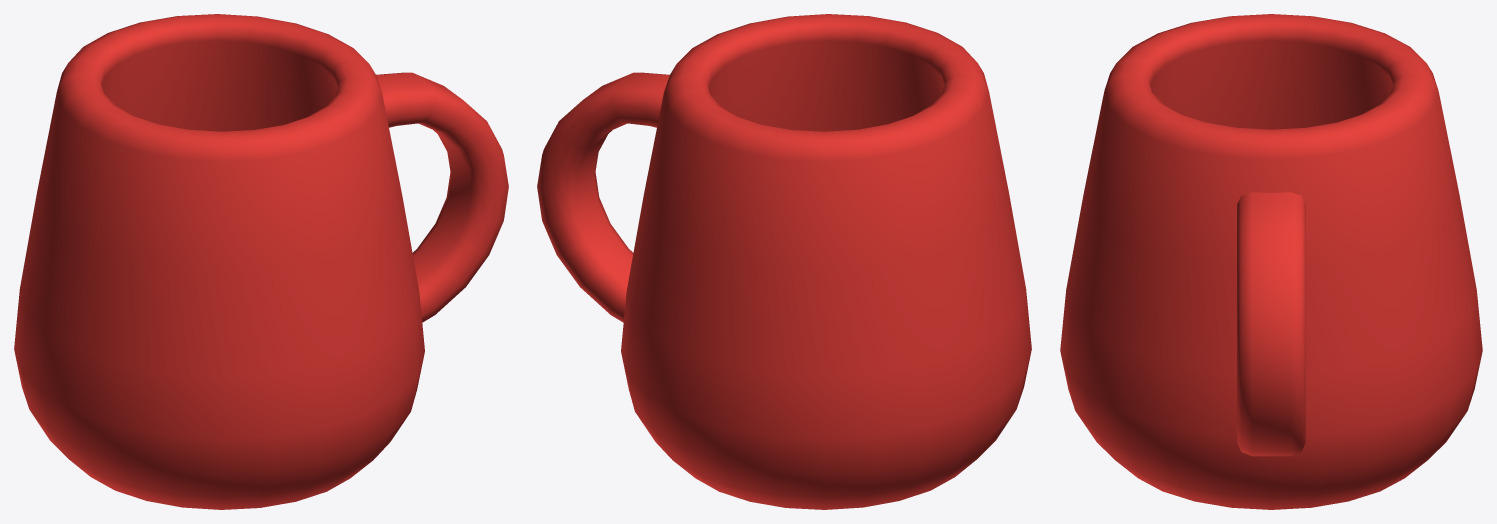
File: Mug3_Red.fbx
3 renders of one model, left to right at view 1: azimuth 30°, elevation 25°; view 2: azimuth 150°, elevation 25°; view 3: azimuth 270°, elevation 25°, orthographic.
Visible parts, largest first — view 1: Mug3_Red; view 2: Mug3_Red; view 3: Mug3_Red.
Boxes of the visible parts, left/top/right/bottom form: Mug3_Red: left=14, top=14, right=508, bottom=509; Mug3_Red: left=537, top=14, right=1031, bottom=509; Mug3_Red: left=1060, top=14, right=1482, bottom=509.
Size of the model in its own units: 16.75 by 13.4 by 13.4.
